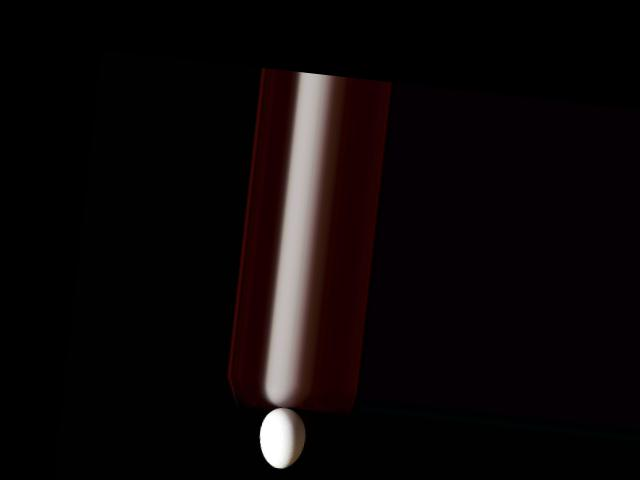egg: (256, 404, 307, 470)
